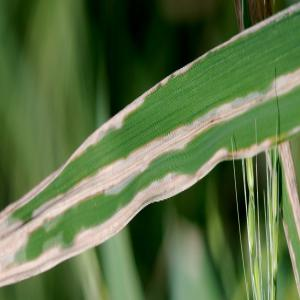Hawar Daun: (96, 92, 145, 138), (151, 169, 189, 199), (1, 259, 37, 289), (101, 168, 135, 195), (142, 133, 171, 159)
